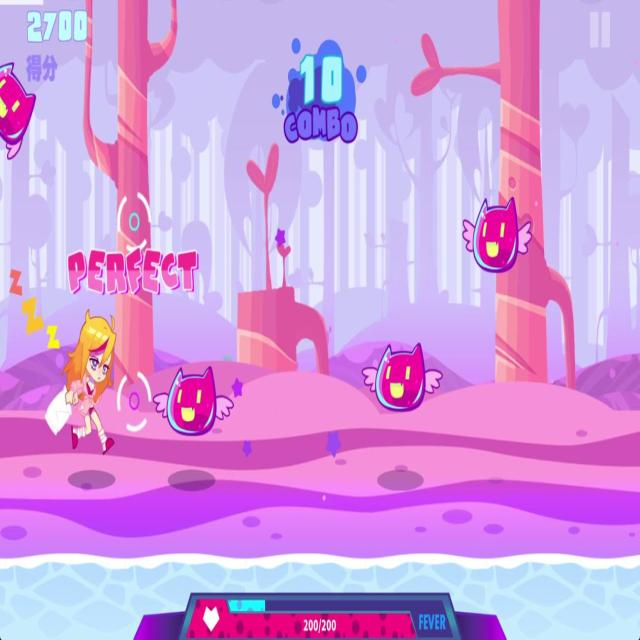mao: (153, 358, 236, 441), (460, 190, 532, 280), (361, 337, 443, 413), (0, 59, 38, 165)
